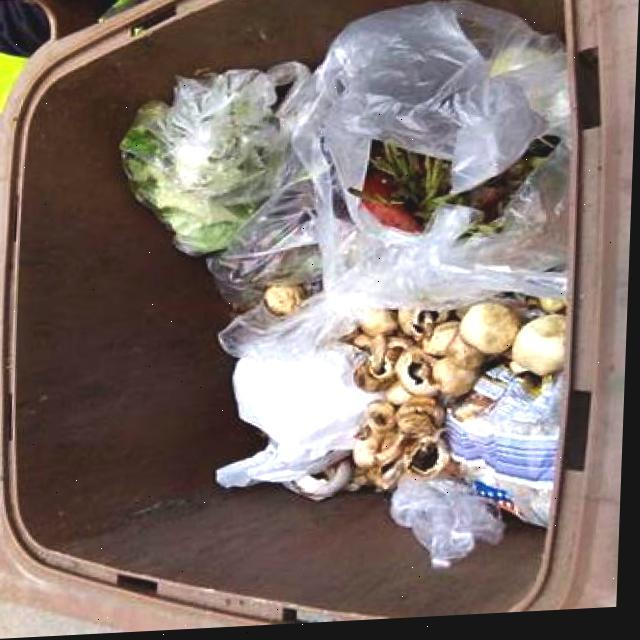Garbage: (122, 4, 569, 571)
Plastic_Bag: (210, 4, 569, 361), (121, 64, 309, 256), (221, 345, 384, 490), (395, 479, 509, 572)
